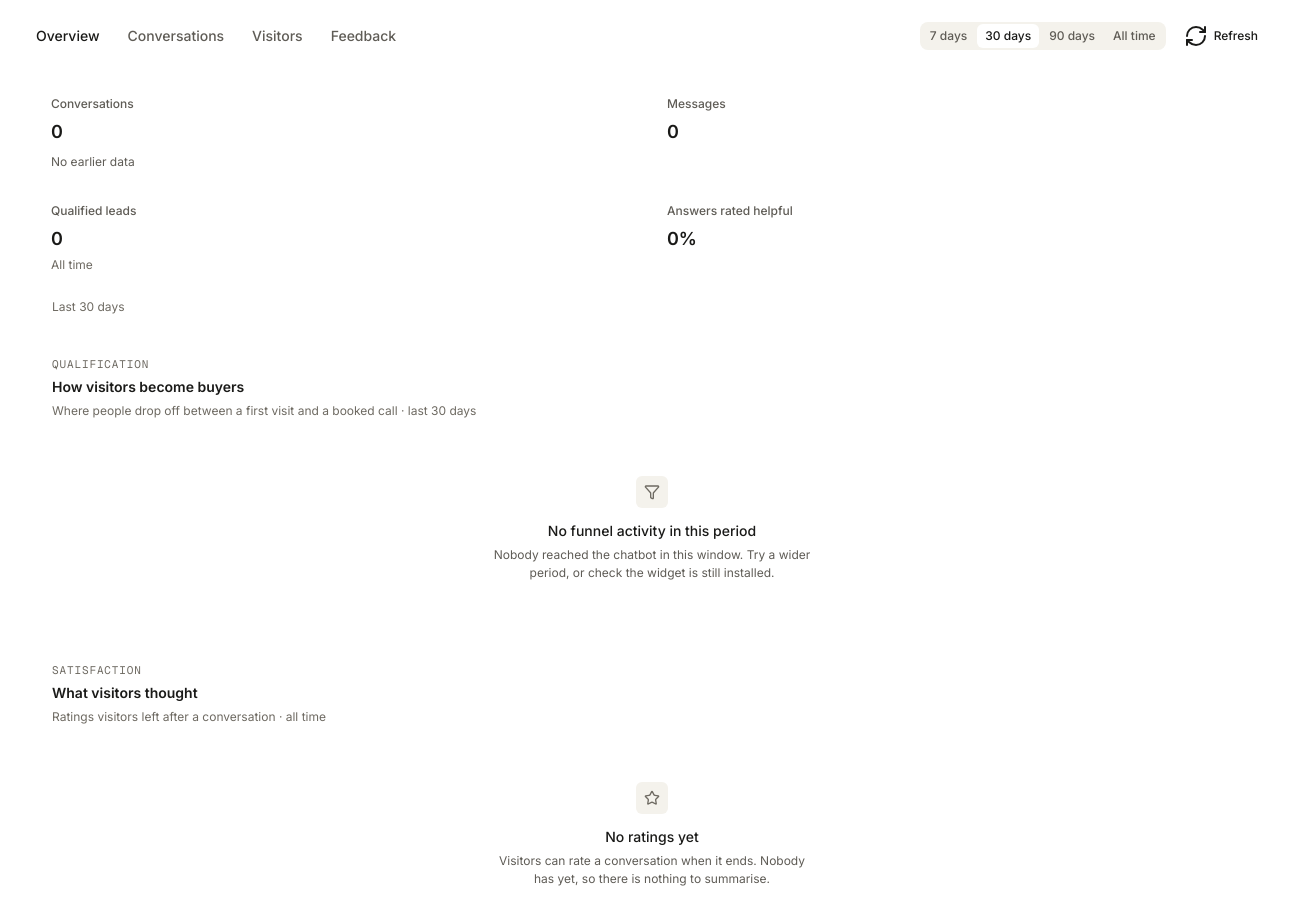
Test: AnalyticsPage › puts the reporting period in the URL
Click the radio button labelled "7 days". click: point(949, 36)
box: x1=922 y1=24 x2=975 y2=48
(page scrolled)
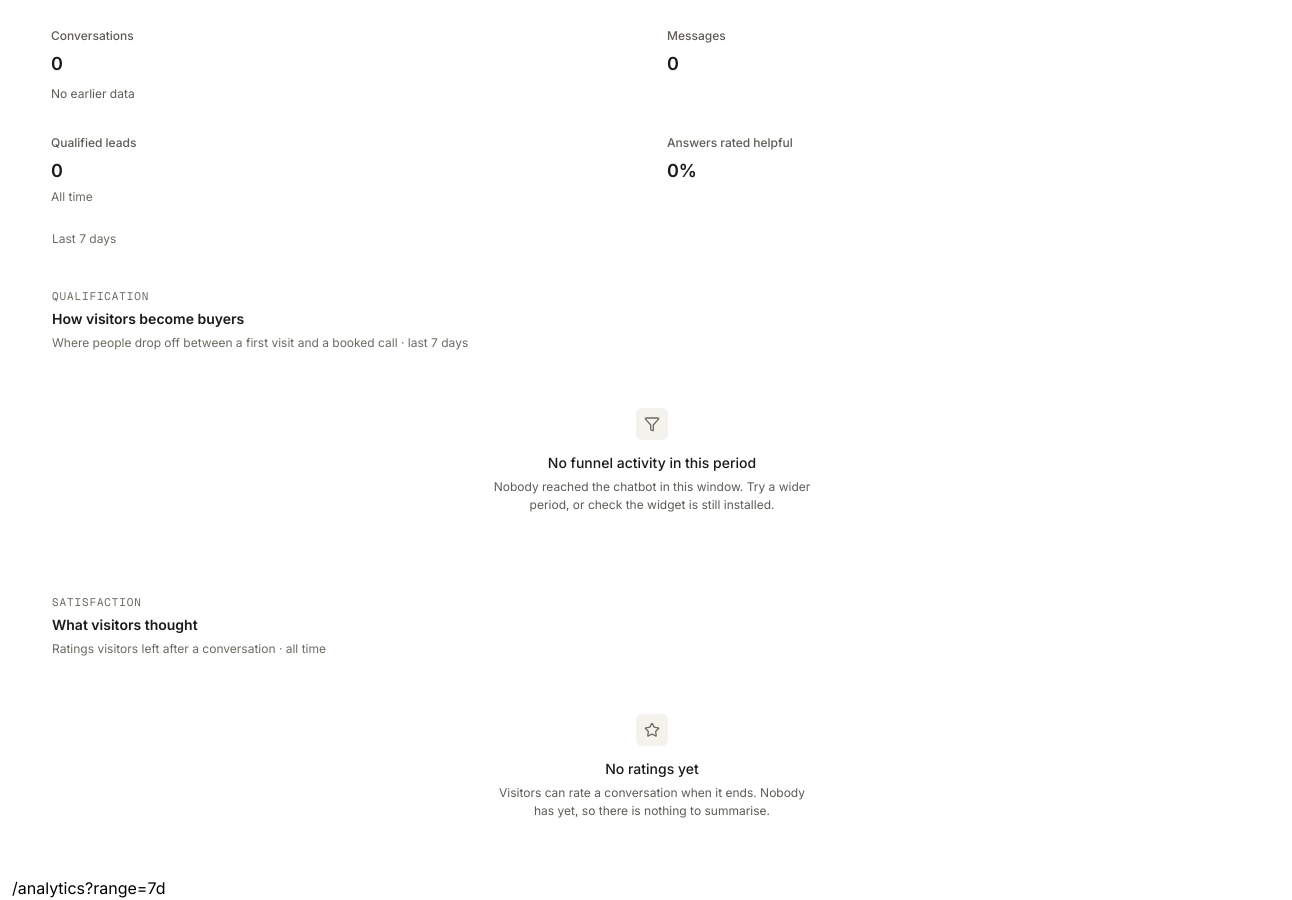
expect the text with test id "url" shows "range=7d": met, box x1=12 y1=878 x2=166 y2=898
